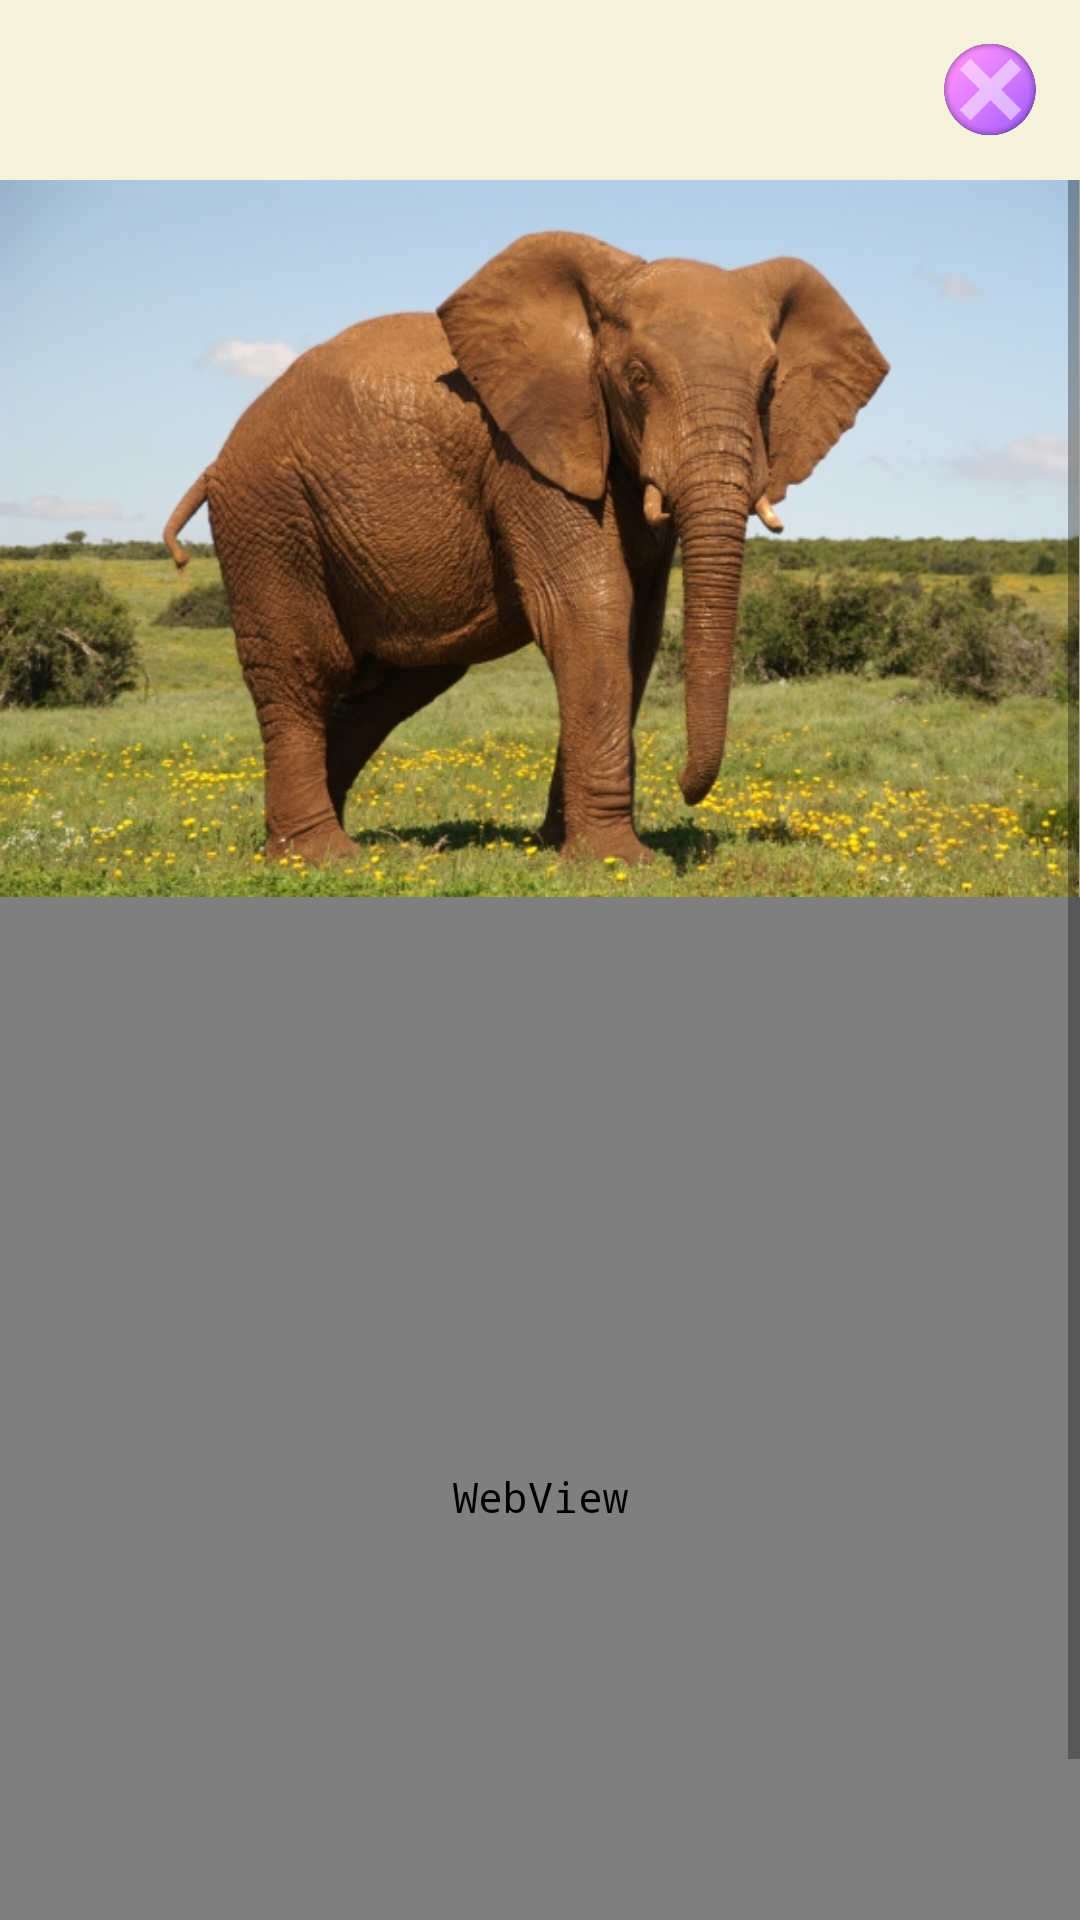

Where to tap for icons on this 1080w x 1920h app screen, as (x,y):
close bio: (990,89)
